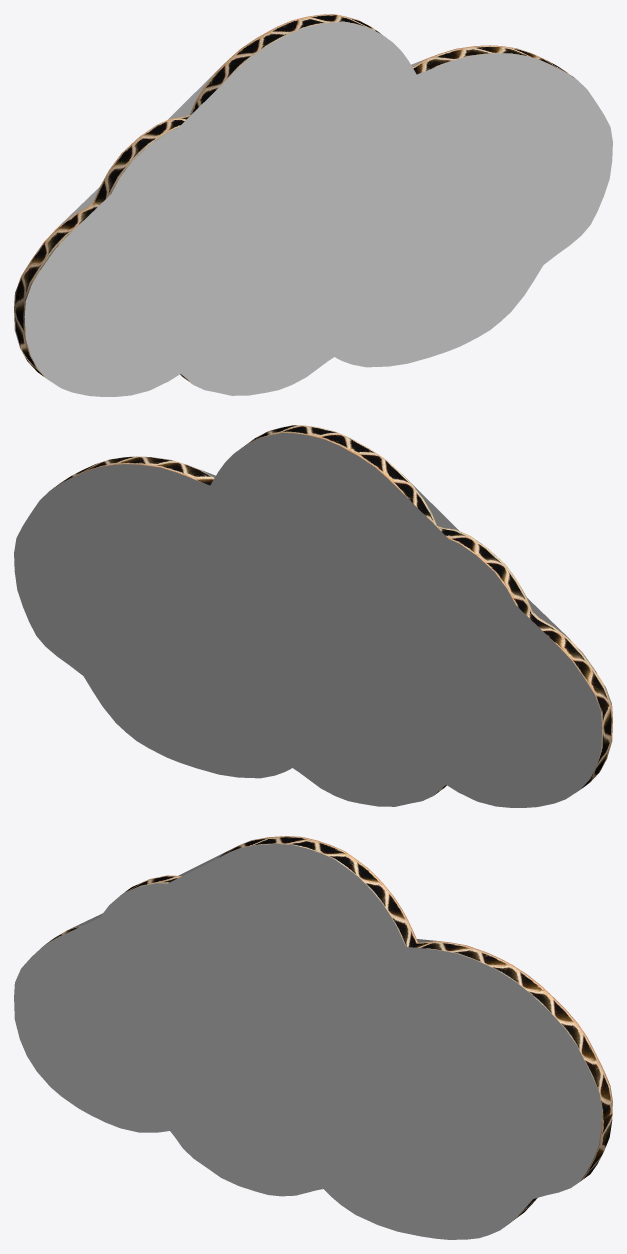
File: cloud1.fbx
3 renders of one model, top to bottom at view 1: azimuth 30°, elevation 25°; view 2: azimuth 150°, elevation 25°; view 3: azimuth 330°, elevation 25°, orthographic.
Visible parts, largest first — view 1: cloud1; view 2: cloud1; view 3: cloud1.
Part boxes in pixels (x1,y1,x2,y2): cloud1: (14,14,612,396); cloud1: (14,425,612,807); cloud1: (14,836,612,1239).
Bounding box in the file's own units: 452 × 265 × 14.37.
